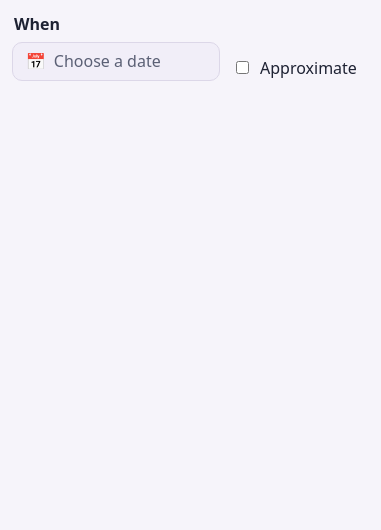
calendar date picker › opens on the current month with today marked
Click the button with aria-label "When:" at x=116, y=61, box [12, 42, 220, 81]
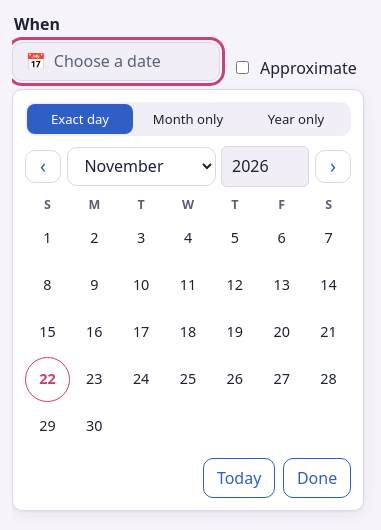
Check: the dropdown named "Month" shows "November", box [67, 147, 216, 186]
Check: the number field named "Year" holds "2026", box [221, 146, 309, 187]
